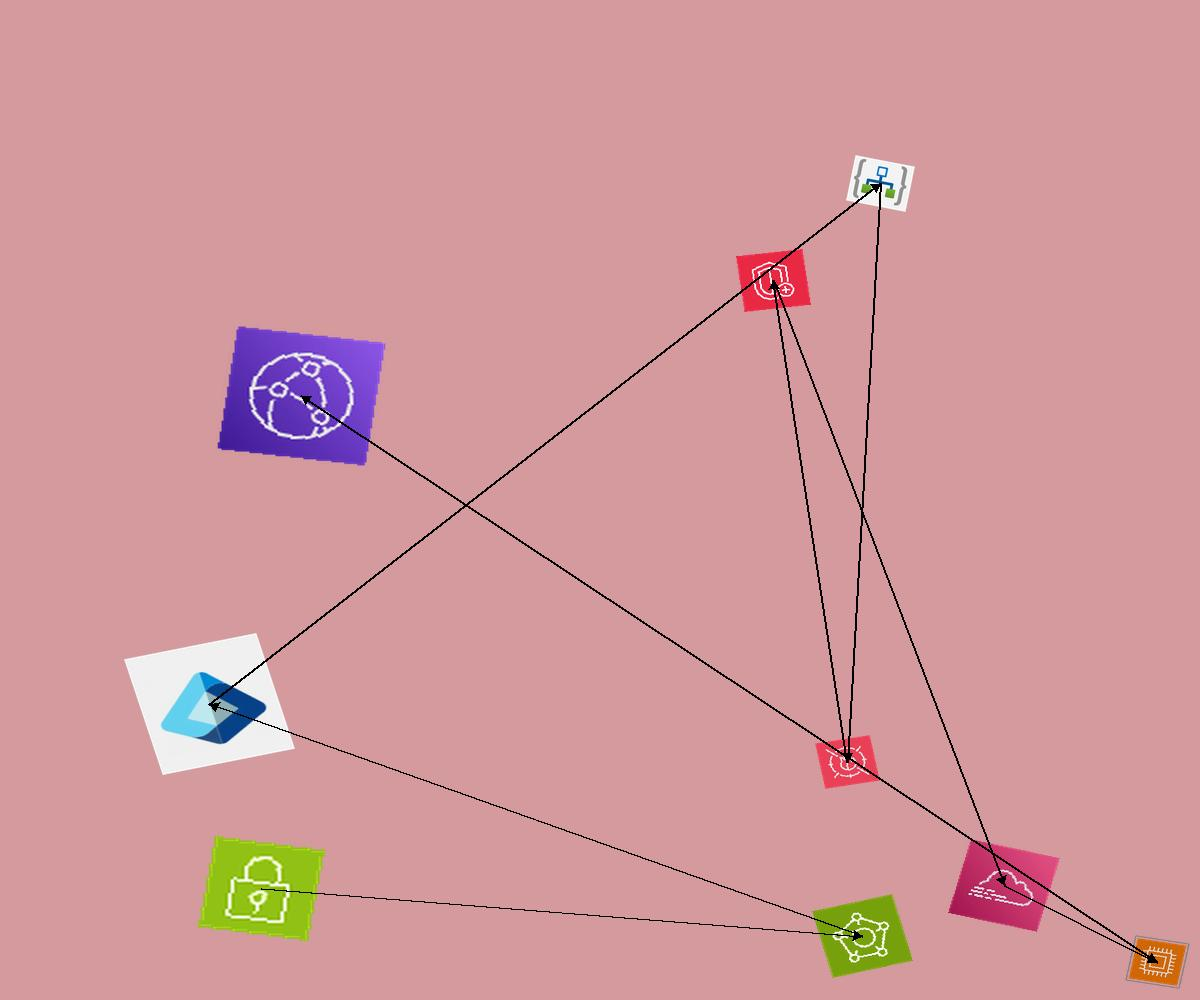AWS-Backup: (812, 894, 913, 978)
AWS-Category_Compute: (1125, 935, 1190, 989)
AWS-CloudFront: (216, 325, 387, 467)
AWS-CloudTrail: (948, 839, 1060, 932)
AWS-Public-subnet: (198, 836, 325, 941)
AWS-Shield: (736, 249, 811, 312)
AWS-WAF: (815, 735, 880, 789)
Azure_integration-204-Logic-Apps: (846, 155, 915, 212)
Azure_microsoft_entra: (124, 633, 295, 775)
